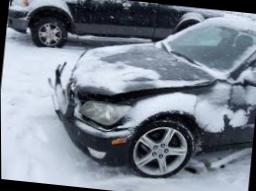Bonnet: (77, 72, 229, 111)
Light: (78, 99, 133, 129)
